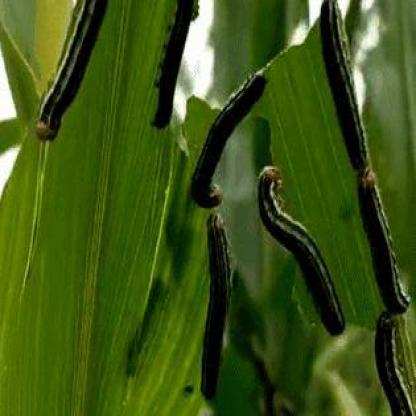armyworm: (249, 161, 349, 337), (186, 70, 272, 210), (30, 2, 108, 144), (318, 0, 370, 175), (356, 171, 411, 318), (195, 206, 235, 408), (148, 0, 198, 132), (368, 312, 416, 416)
